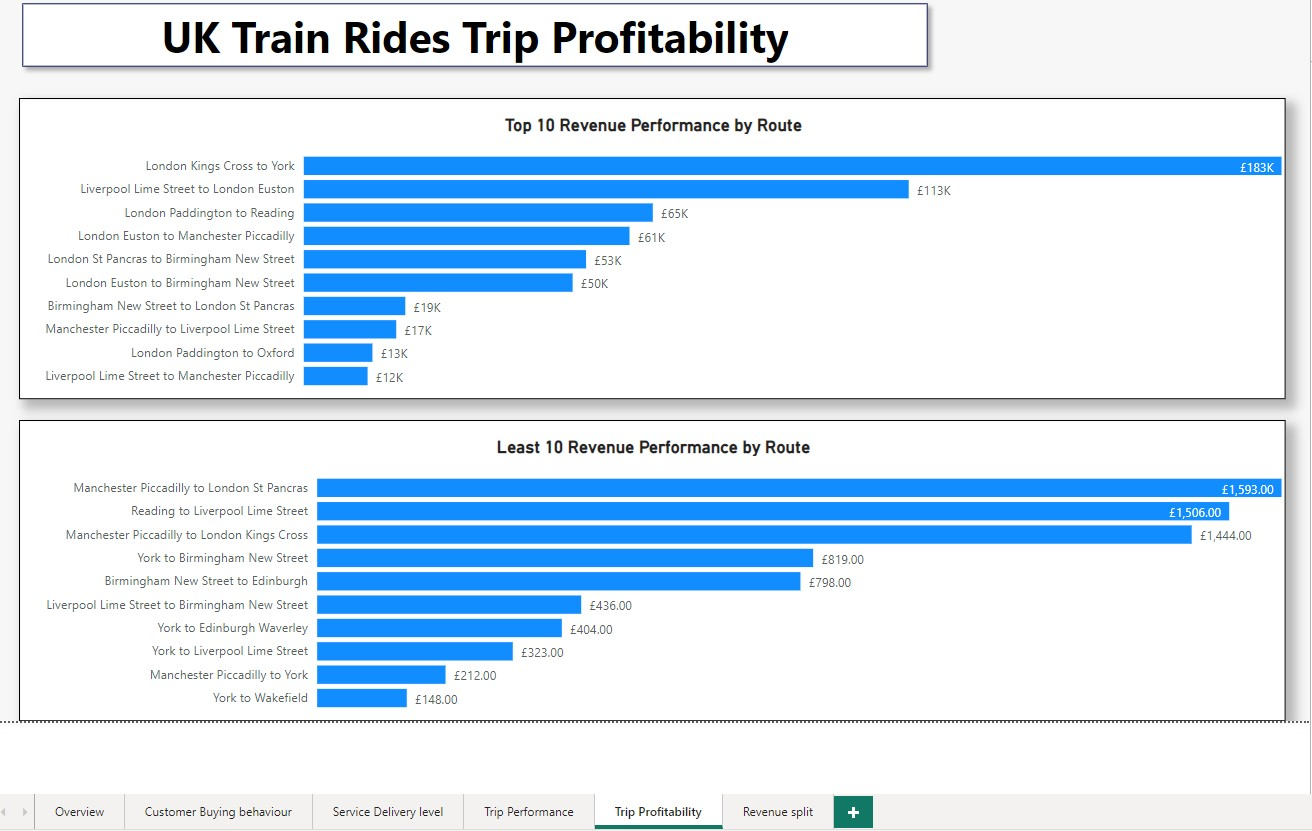

The page's visual inventory and layout, read from the dashboard file:
{"tool":"powerbi","page":{"name":"Trip Profitability","canvas":[1280,720],"ordinal":7},"visuals":[{"type":"clusteredBarChart","title":"Top 10 Revenue Performance  by Route","fields":{"Category":["railway_clean_data.Route"],"Y":["Sum(railway_clean_data.Price)"]},"box":[23.3,113.8,1232.3,292.8],"z":0},{"type":"clusteredBarChart","title":"Least 10 Revenue Performance by Route","fields":{"Category":["railway_clean_data.Route"],"Y":["Sum(railway_clean_data.Price)"]},"box":[23.3,427,1232.3,292.8],"z":1000},{"type":"shape","box":[17.5,12.6,898.7,79.8],"z":2000}]}

Visuals, with their boxes on the page's 1280x720 design canvas (x1, y1, x2, y2). These are canvas units, not pixel positions in the 1312x831 screenshot, which may show the page scaled, cropped or inside an application window:
"Top 10 Revenue Performance  by Route" clusteredBarChart: box(23, 114, 1256, 407)
"Least 10 Revenue Performance by Route" clusteredBarChart: box(23, 427, 1256, 720)
shape: box(18, 13, 916, 92)
